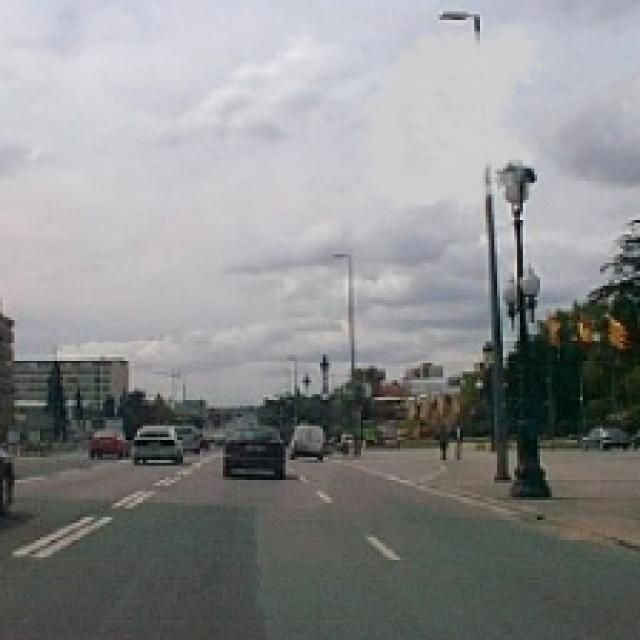smoke: (340, 20, 549, 223)
